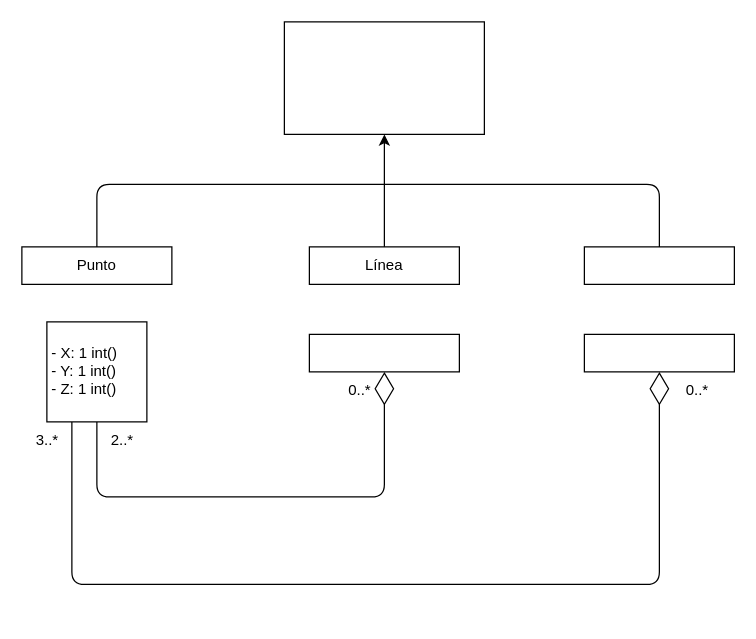
The diagram is 756 pixels wide and 639 high, and some of its shapes have lost their labels. Each missing label, with the centre of its shape:
"Entidad geográfica - Nombre: 1 string() - Codigo: 1 string()" goes at pixel 383 77.
"Área" goes at pixel 658 265.
